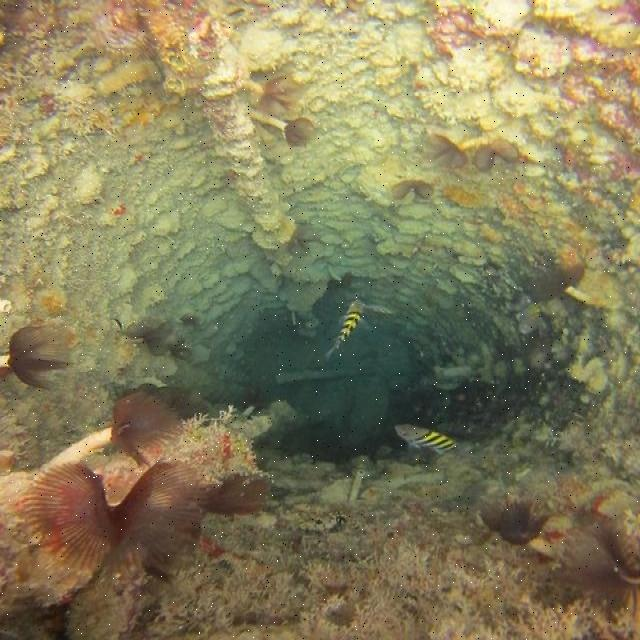fish: (22, 463, 274, 580), (0, 389, 186, 500), (0, 328, 78, 394), (325, 298, 367, 358), (395, 422, 457, 456)
reefs: (481, 497, 639, 614)
